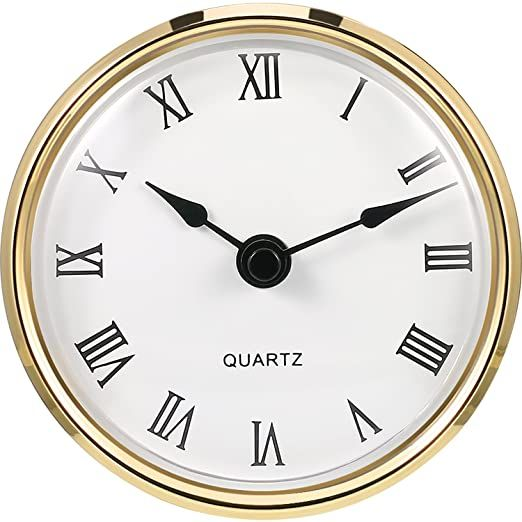clock: (3, 1, 522, 522)
